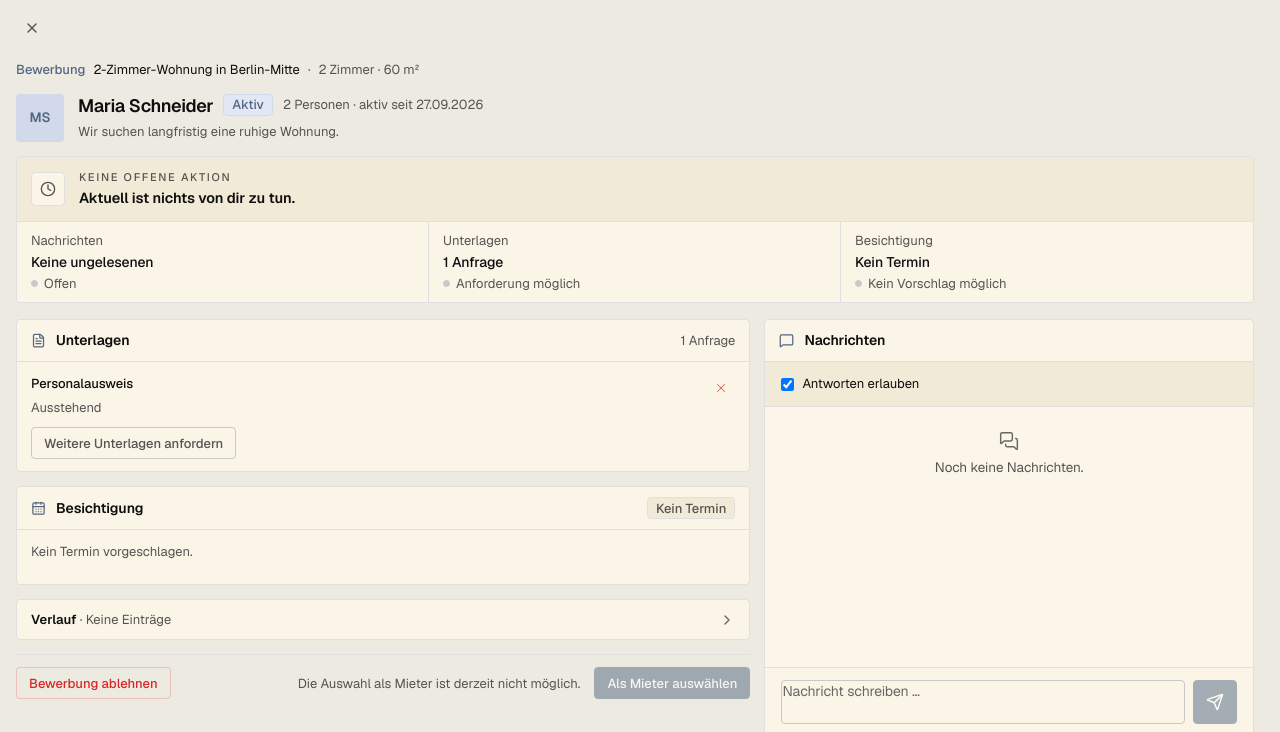
Scenario: document request cancellation › shows removal only when the workspace allows it and hides replacement for a pending upload
The width and height of the screenshot is (1280, 732).
Expected: the icon in the row of "Personalausweis" is shown, [714,382,728,396]
Hover over the button named "Anfrage entfernen: Personalausweis" at coordinates (721, 388), box [707,374,735,402]
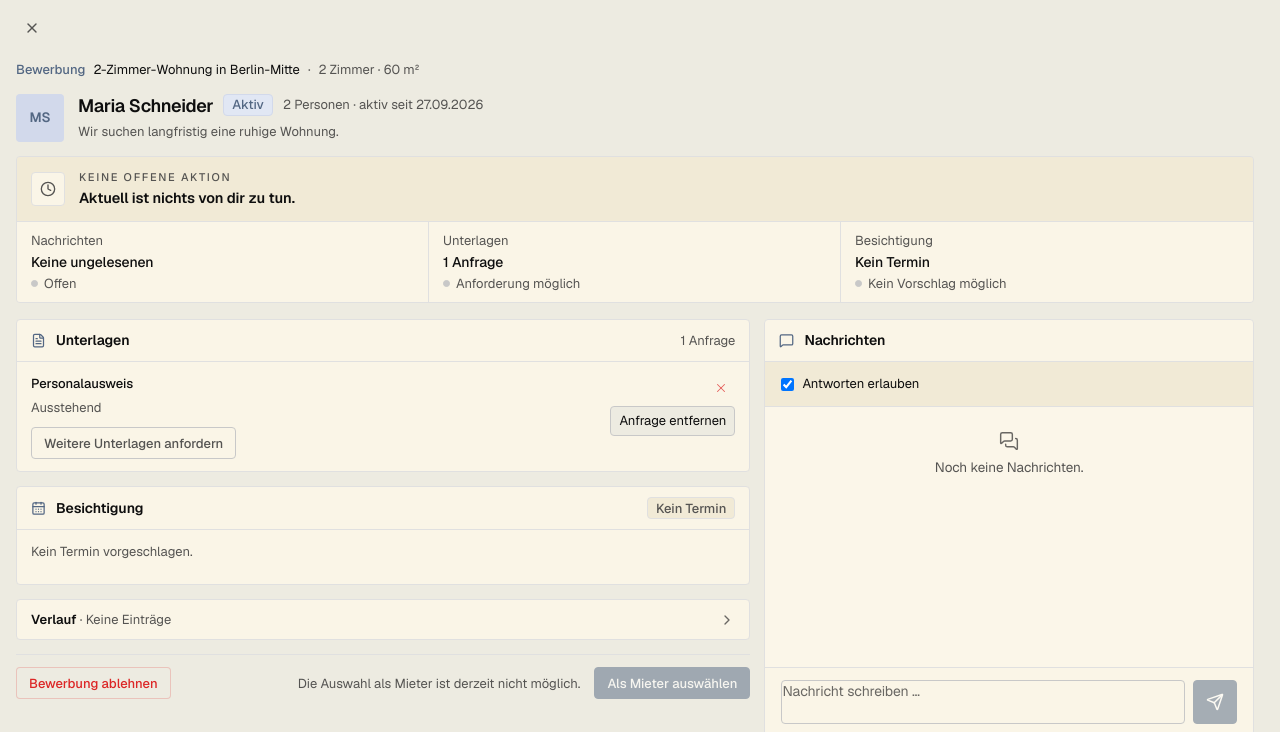
Expected: the tooltip reads "Anfrage entfernen", [619,412,726,430]
